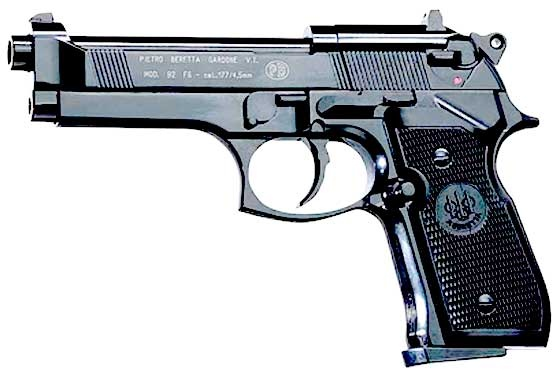pistol: (2, 19, 560, 373)
